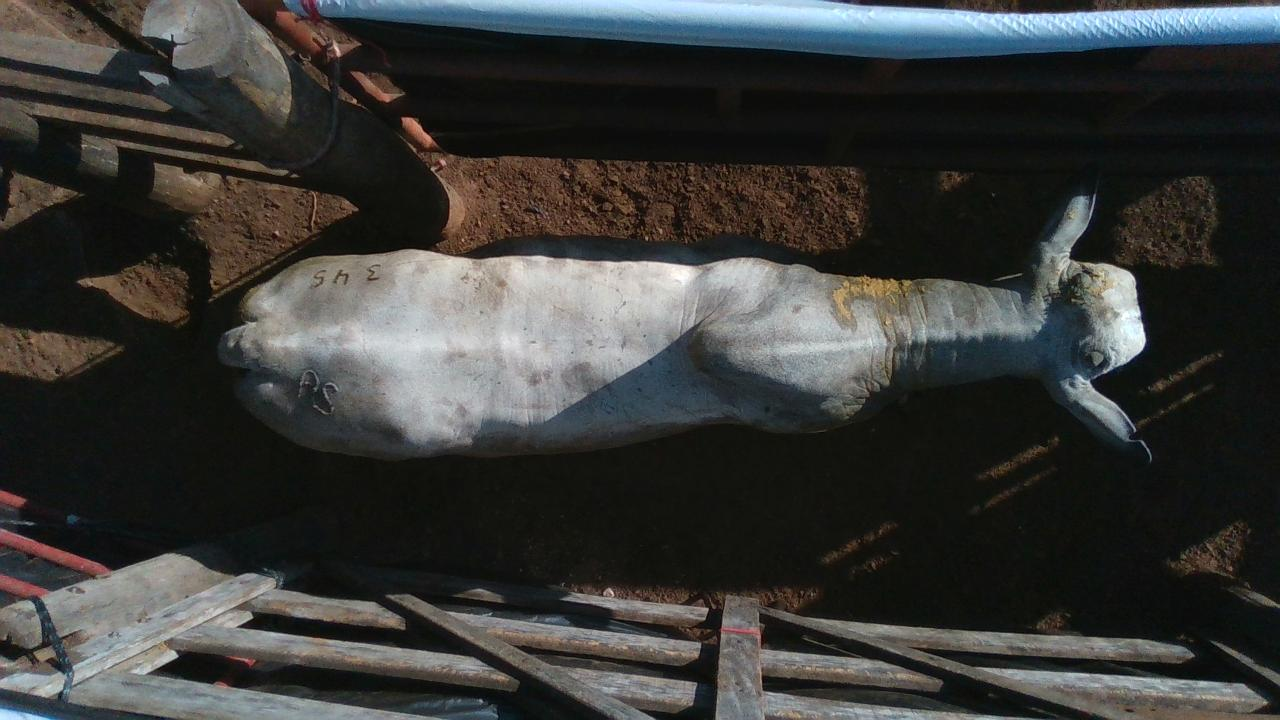cattle: (216, 175, 1154, 468)
